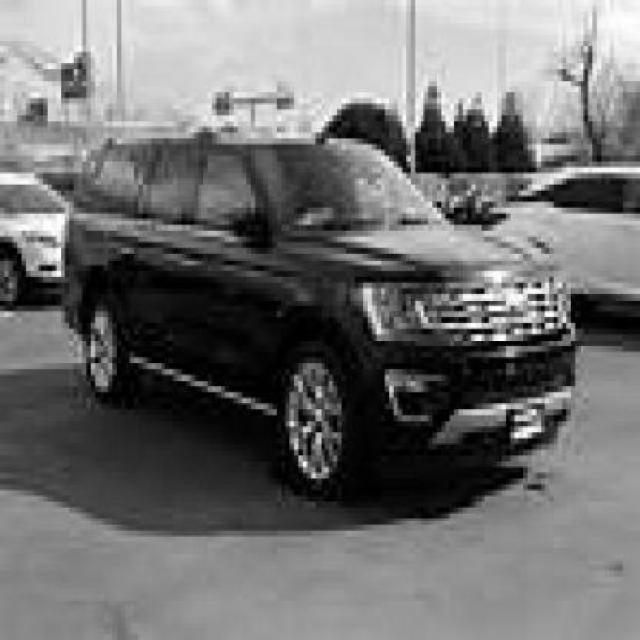SUV: (64, 132, 578, 502)
